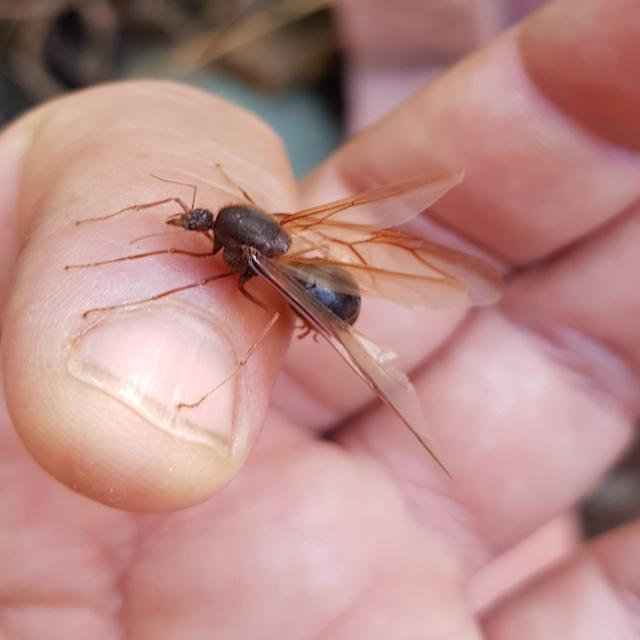Alive-Male-Alate: (65, 163, 503, 480)
